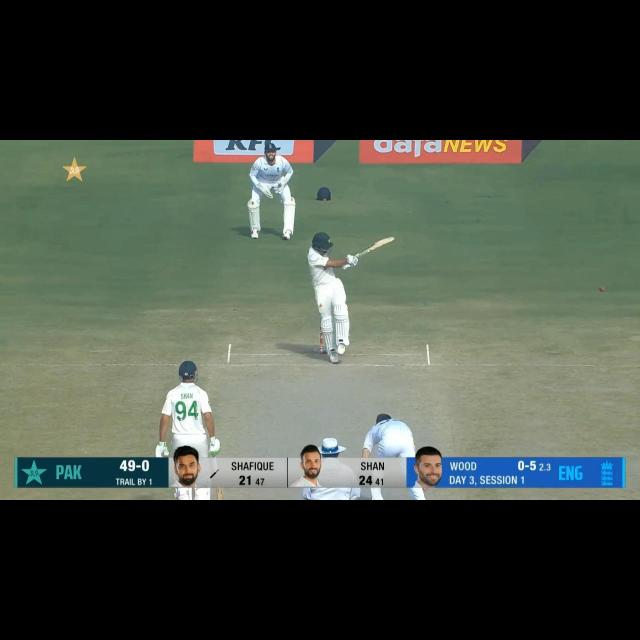bat: (355, 231, 399, 258), (217, 488, 225, 502)
toe: (382, 233, 397, 247), (215, 491, 226, 500)
